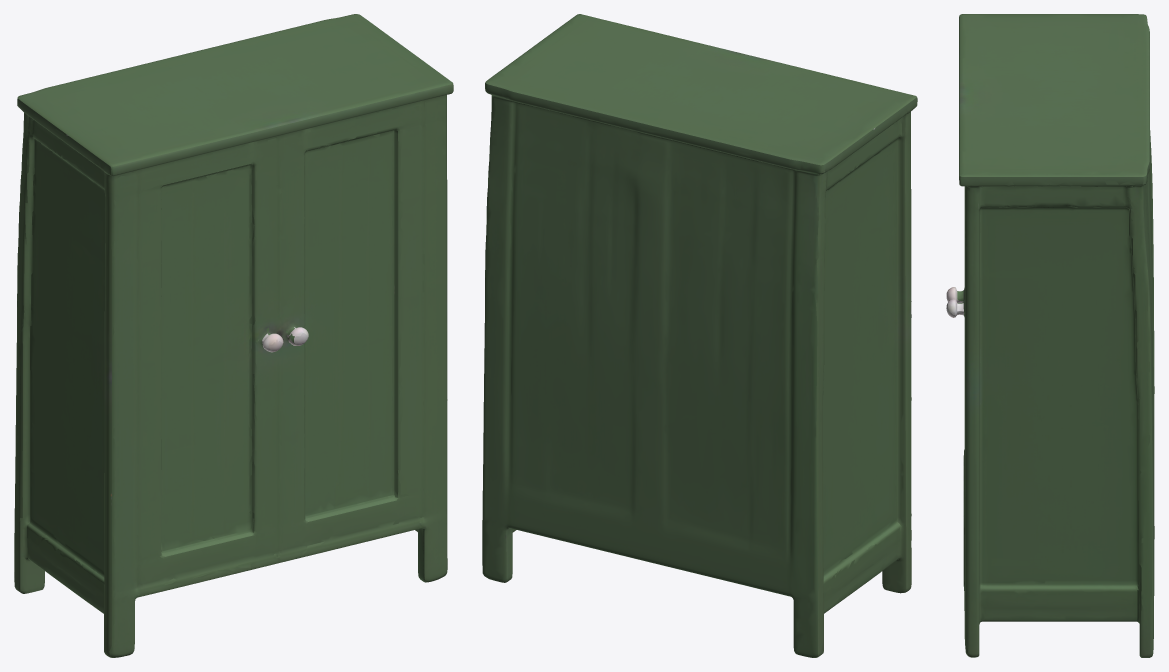
The model's file is cabinet__cabinet#2.glb.
3 views of the same model, side by side, from view 1: azimuth 30°, elevation 25°; view 2: azimuth 150°, elevation 25°; view 3: azimuth 270°, elevation 25° (orthographic). The views are drawn at different scales.
Visible parts, largest first — view 1: tmpo1ghzzk_.ply; view 2: tmpo1ghzzk_.ply; view 3: tmpo1ghzzk_.ply.
Part boxes in pixels (x1=…): tmpo1ghzzk_.ply: x1=14, y1=14, x2=453, y2=657; tmpo1ghzzk_.ply: x1=482, y1=14, x2=917, y2=657; tmpo1ghzzk_.ply: x1=946, y1=14, x2=1154, y2=657.
Bounding box in the file's own units: 1.43 × 1.99 × 0.7728.
1 material, 1 textured.
